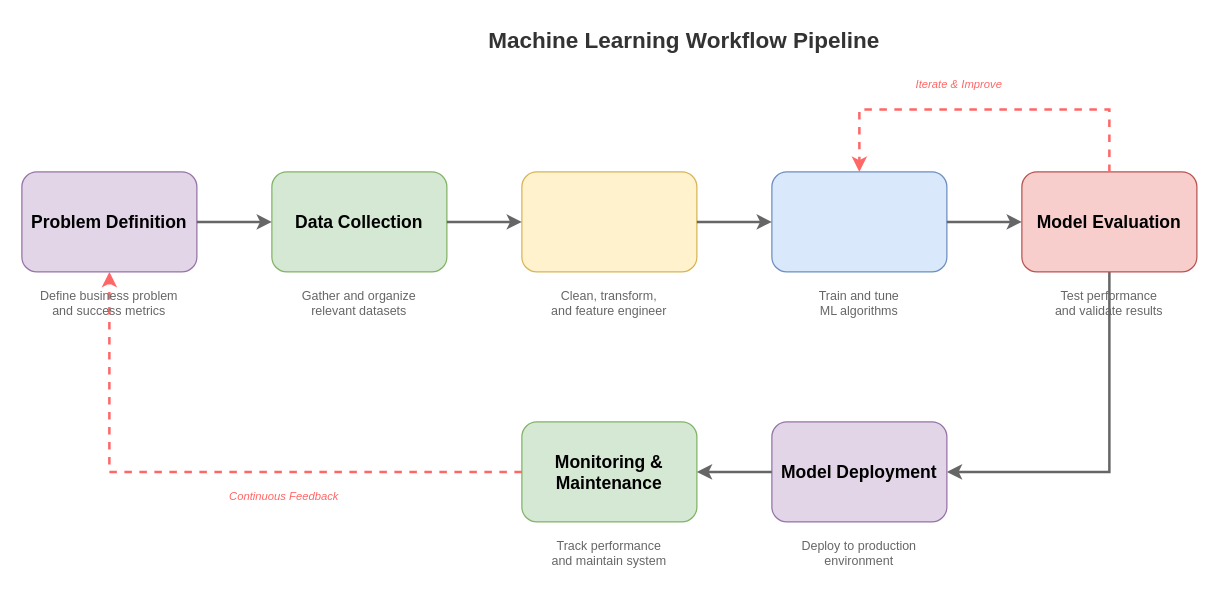
Some shapes in this 1219 by 593 pixel diagram are drawn without their labels. Here are the shapes that lost their labels. From the top down, the centre of each, then its label:
At pixel 609 221: "Data Preprocessing".
At pixel 859 221: "Model Development".
